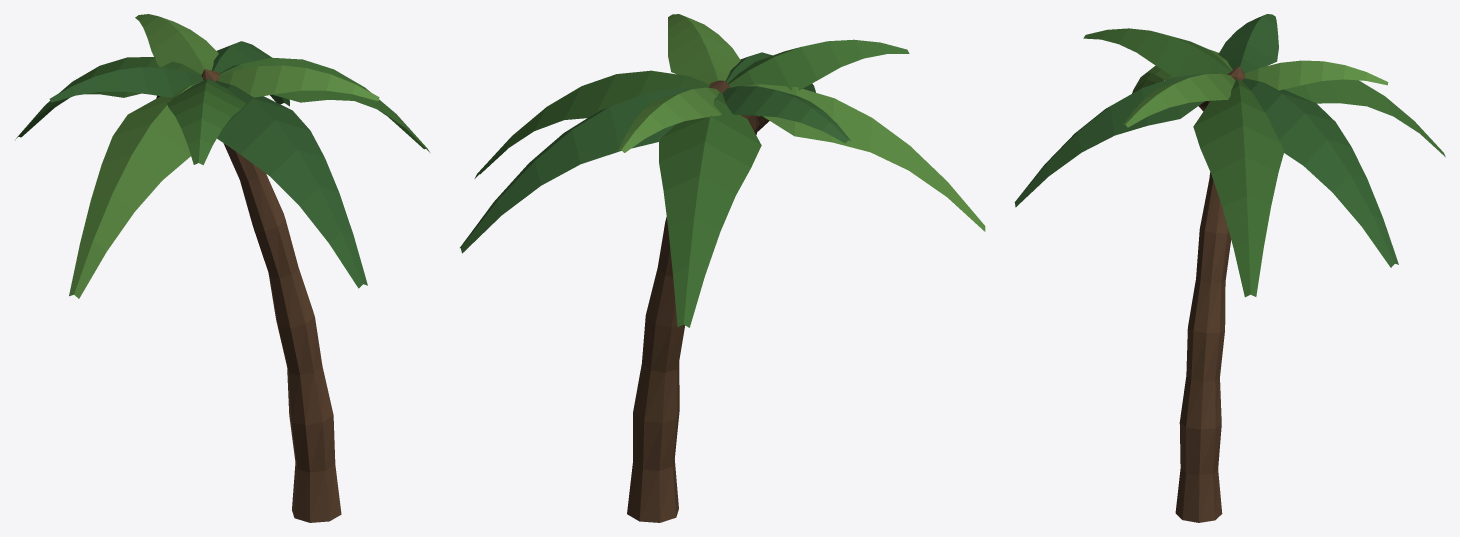
The model's file is tree_palm.glb.
3 renders of one model, left to right at view 1: azimuth 30°, elevation 25°; view 2: azimuth 150°, elevation 25°; view 3: azimuth 270°, elevation 25°, orthographic. The views are drawn at different scales.
Parts seen in each view (by area): view 1: tree; view 2: tree; view 3: tree.
Part boxes in pixels (x1=…): tree: x1=15, y1=14, x2=429, y2=522; tree: x1=460, y1=14, x2=985, y2=522; tree: x1=1014, y1=14, x2=1445, y2=522.
Bounding box in the file's own units: 6.04 × 6.34 × 5.89.
